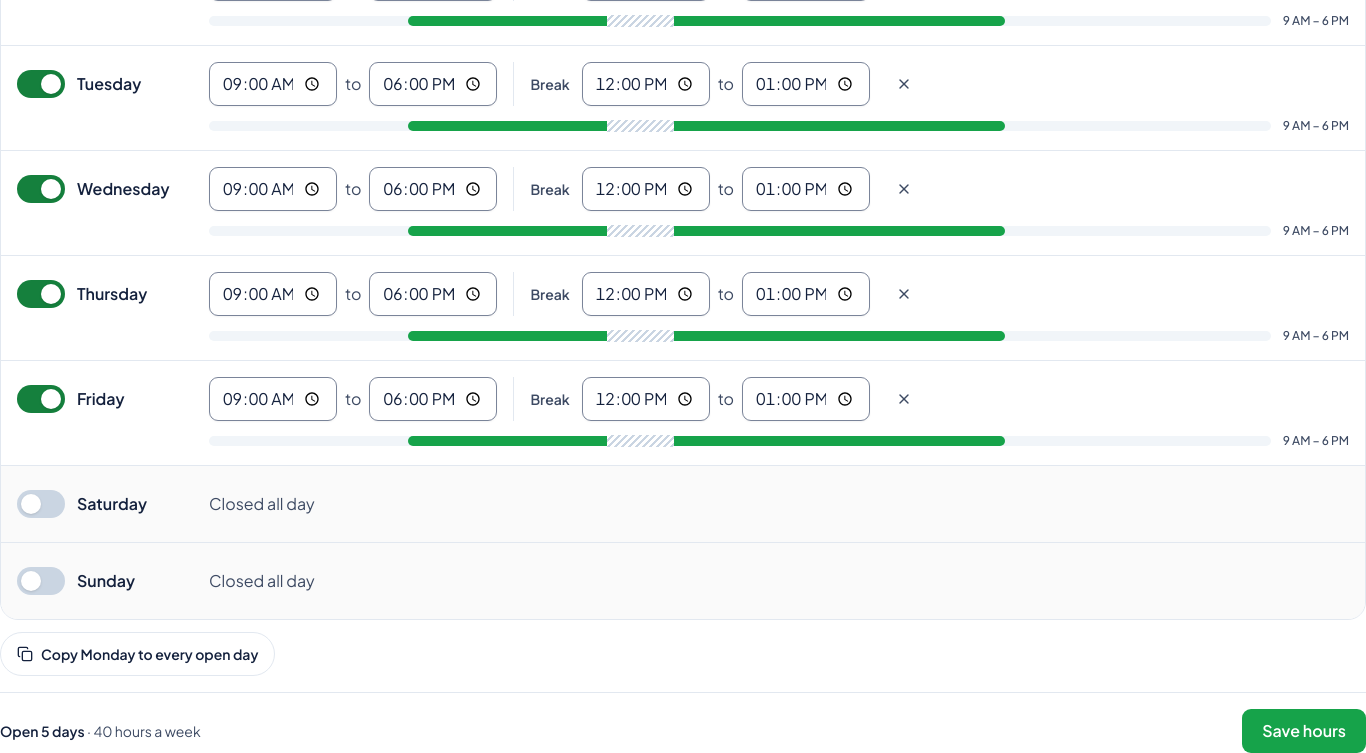
ShopHoursForm › saves the week and confirms
(page scrolled)
Click the button "Save hours": coordinates (1304, 731) [1242,709,1365,752]
(page scrolled)
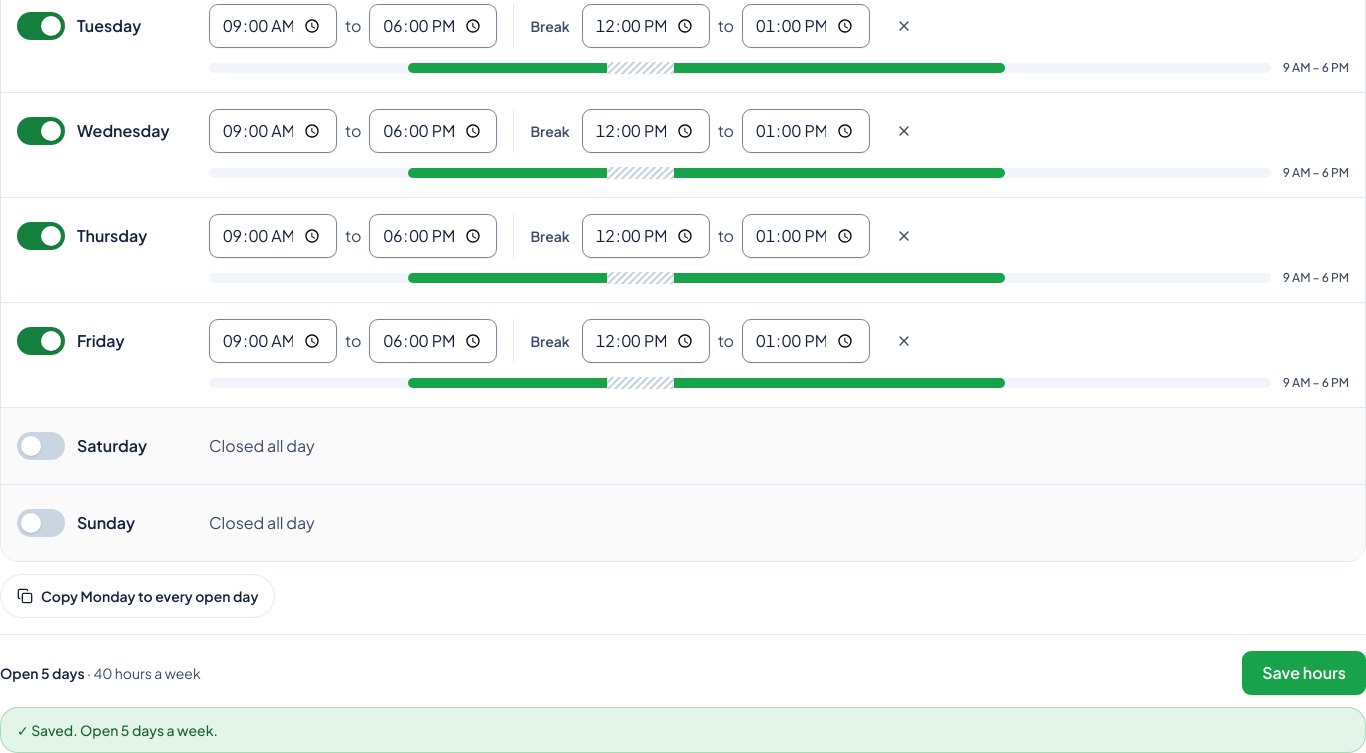
Check: the message shows "Open 5 days a week", box [31,721,218,739]
